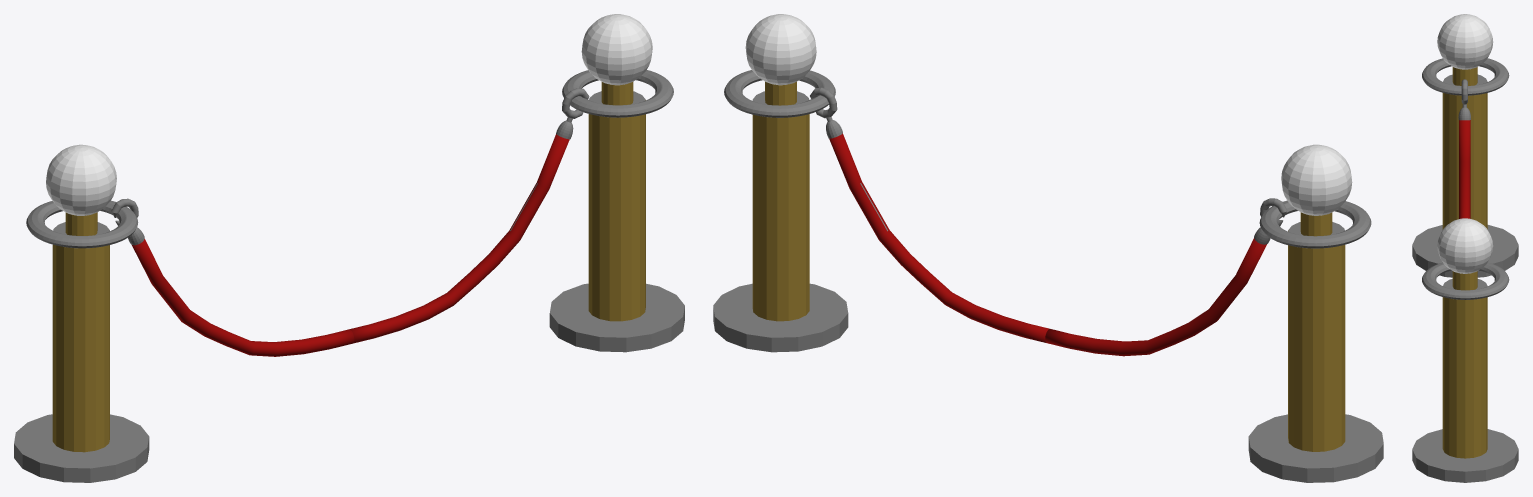
The model's file is QueueBarrier_1obj.fbx.
The picture shows the model from 3 angles, left to right: view 1: azimuth 30°, elevation 25°; view 2: azimuth 150°, elevation 25°; view 3: azimuth 270°, elevation 25°; orthographic projection. The views are drawn at different scales.
Visible parts, largest first — view 1: Body; view 2: Body; view 3: Body.
Boxes of the visible parts, x1=… form: Body: x1=14, y1=14, x2=684, y2=482; Body: x1=713, y1=14, x2=1383, y2=482; Body: x1=1412, y1=14, x2=1518, y2=482.
Size of the model in its own units: 592 by 265 by 107.
